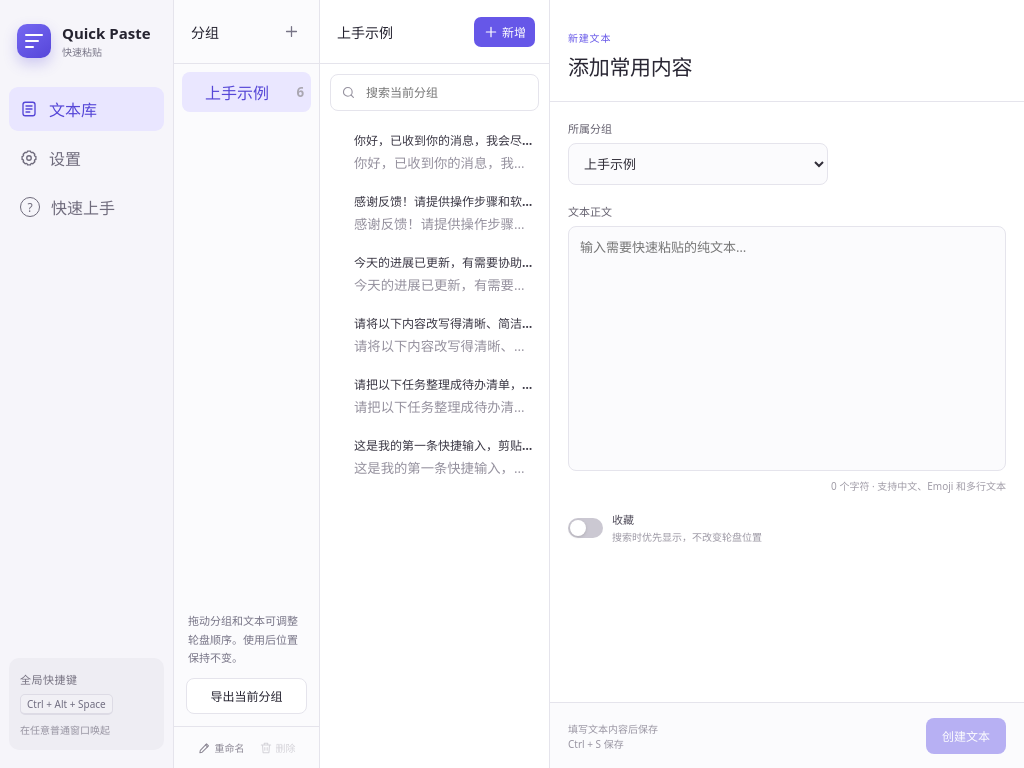
Test: 文本管理数据保护 › 取消离开保留草稿，确认后才切换条目
The width and height of the screenshot is (1024, 768).
Type "不要丢失的草稿" into the text box with placeholder "输入需要快速粘贴的纯文本…" at (787,348), box [568,226,1006,471]
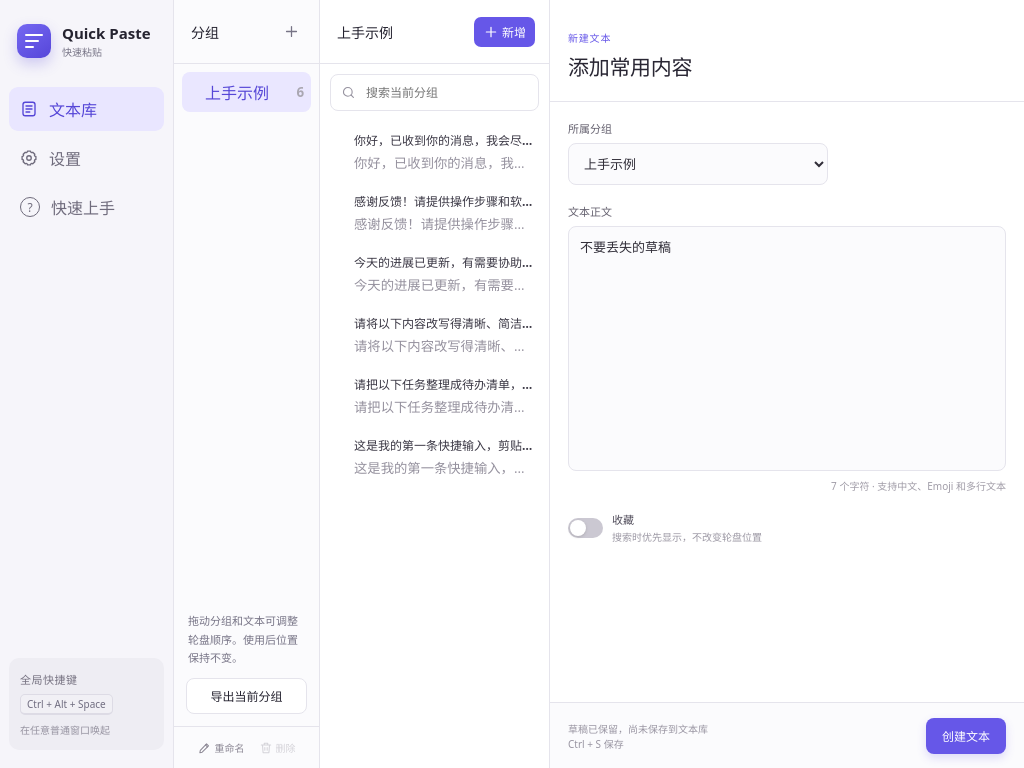
Click the button "你好，已收到你的消息，我会尽… 你好，已收到你的消息，我会尽快回复。" at (434,152), box [328,121,541,182]
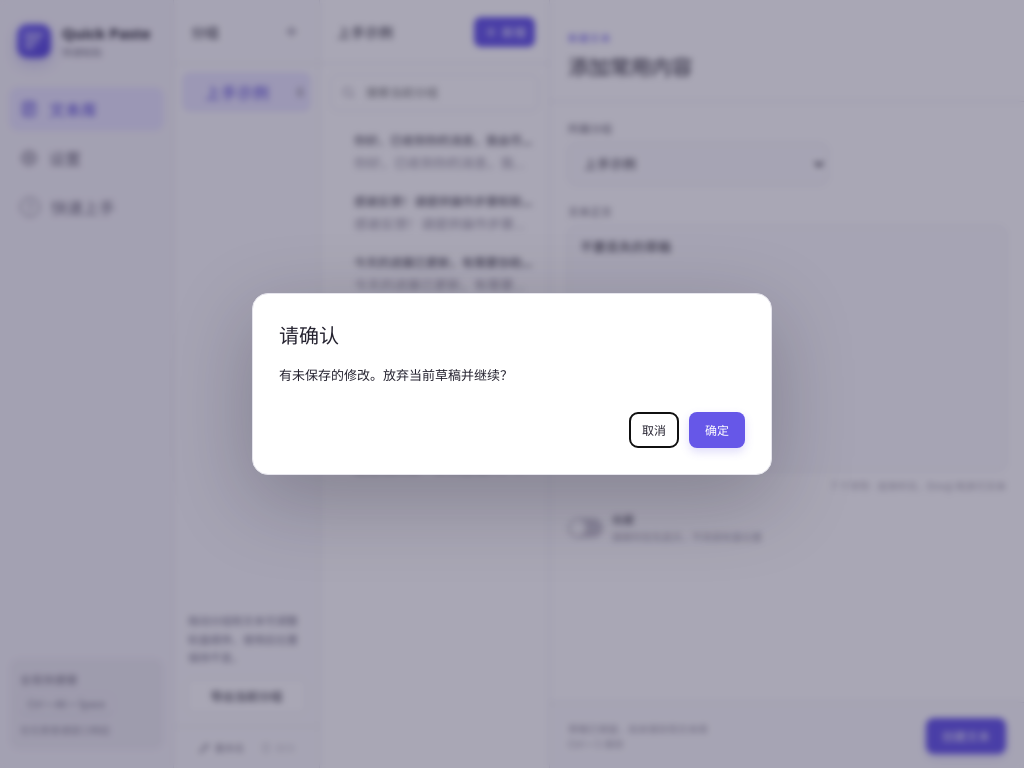
Click the button "取消" at (654,430), box [629,412,679,448]
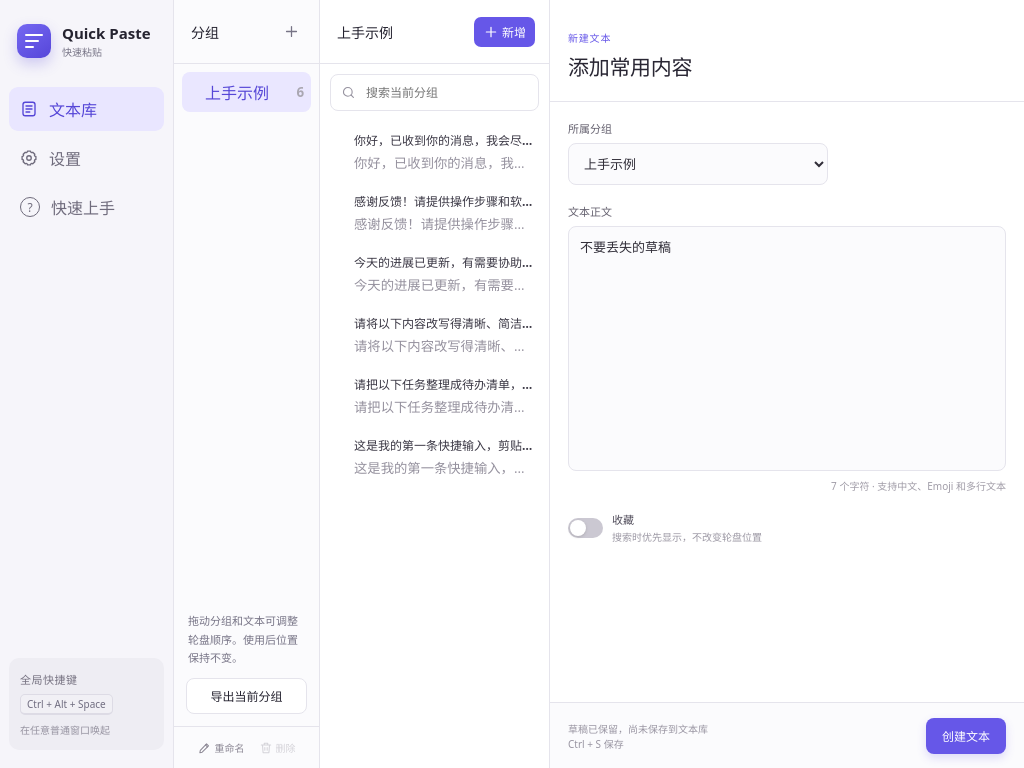
Click the button "你好，已收到你的消息，我会尽… 你好，已收到你的消息，我会尽快回复。" at (434,152), box [328,121,541,182]
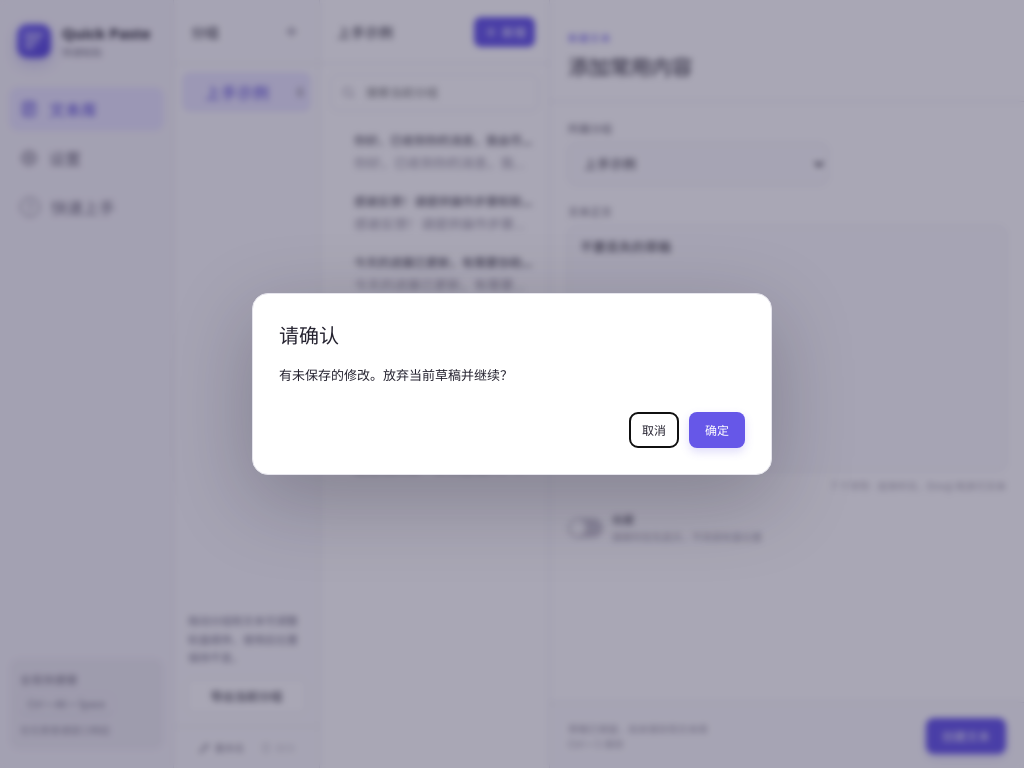
Click the button "确定" at (717,430), box [689,412,745,448]
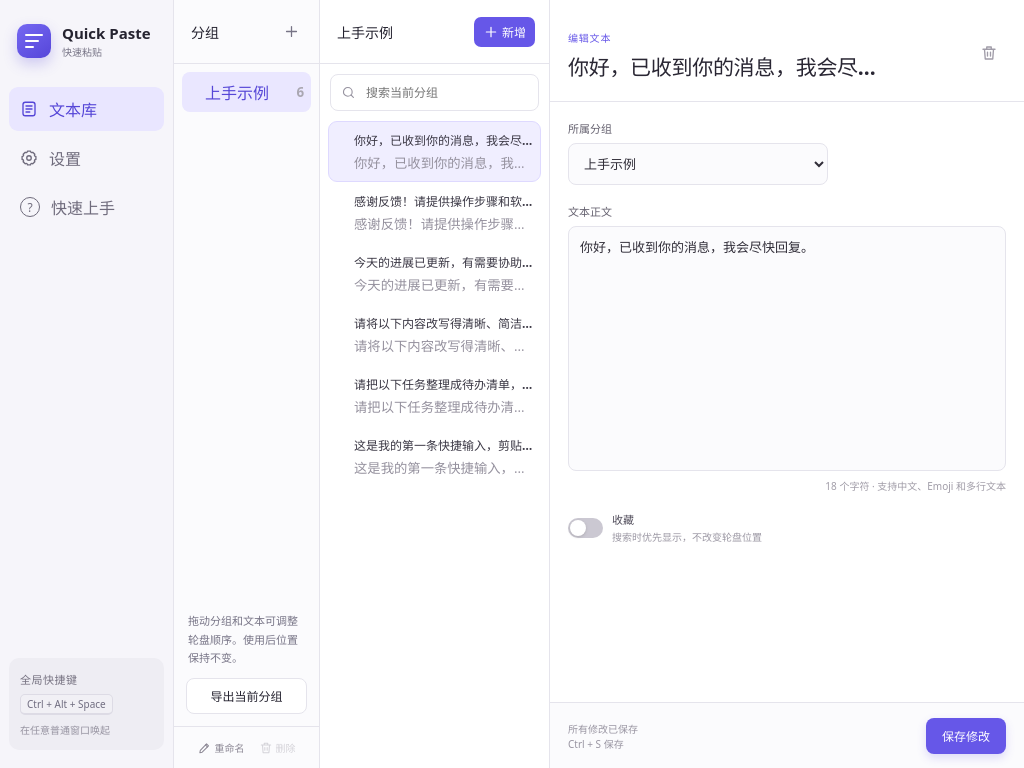
Expected: the text box with placeholder "输入需要快速粘贴的纯文本…" holds "你好，已收到你的消息，我会尽快回复。", [568,226,1006,471]
